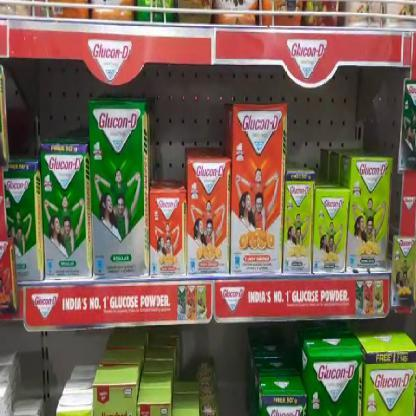Glucon D Nimbu Pani 1-KG: (350, 158, 392, 268)
Glucon D Regular 1-KG: (90, 102, 146, 278), (40, 142, 86, 276)
Glucon D Tangy orange 1-KG: (234, 104, 283, 264), (188, 151, 228, 274)
